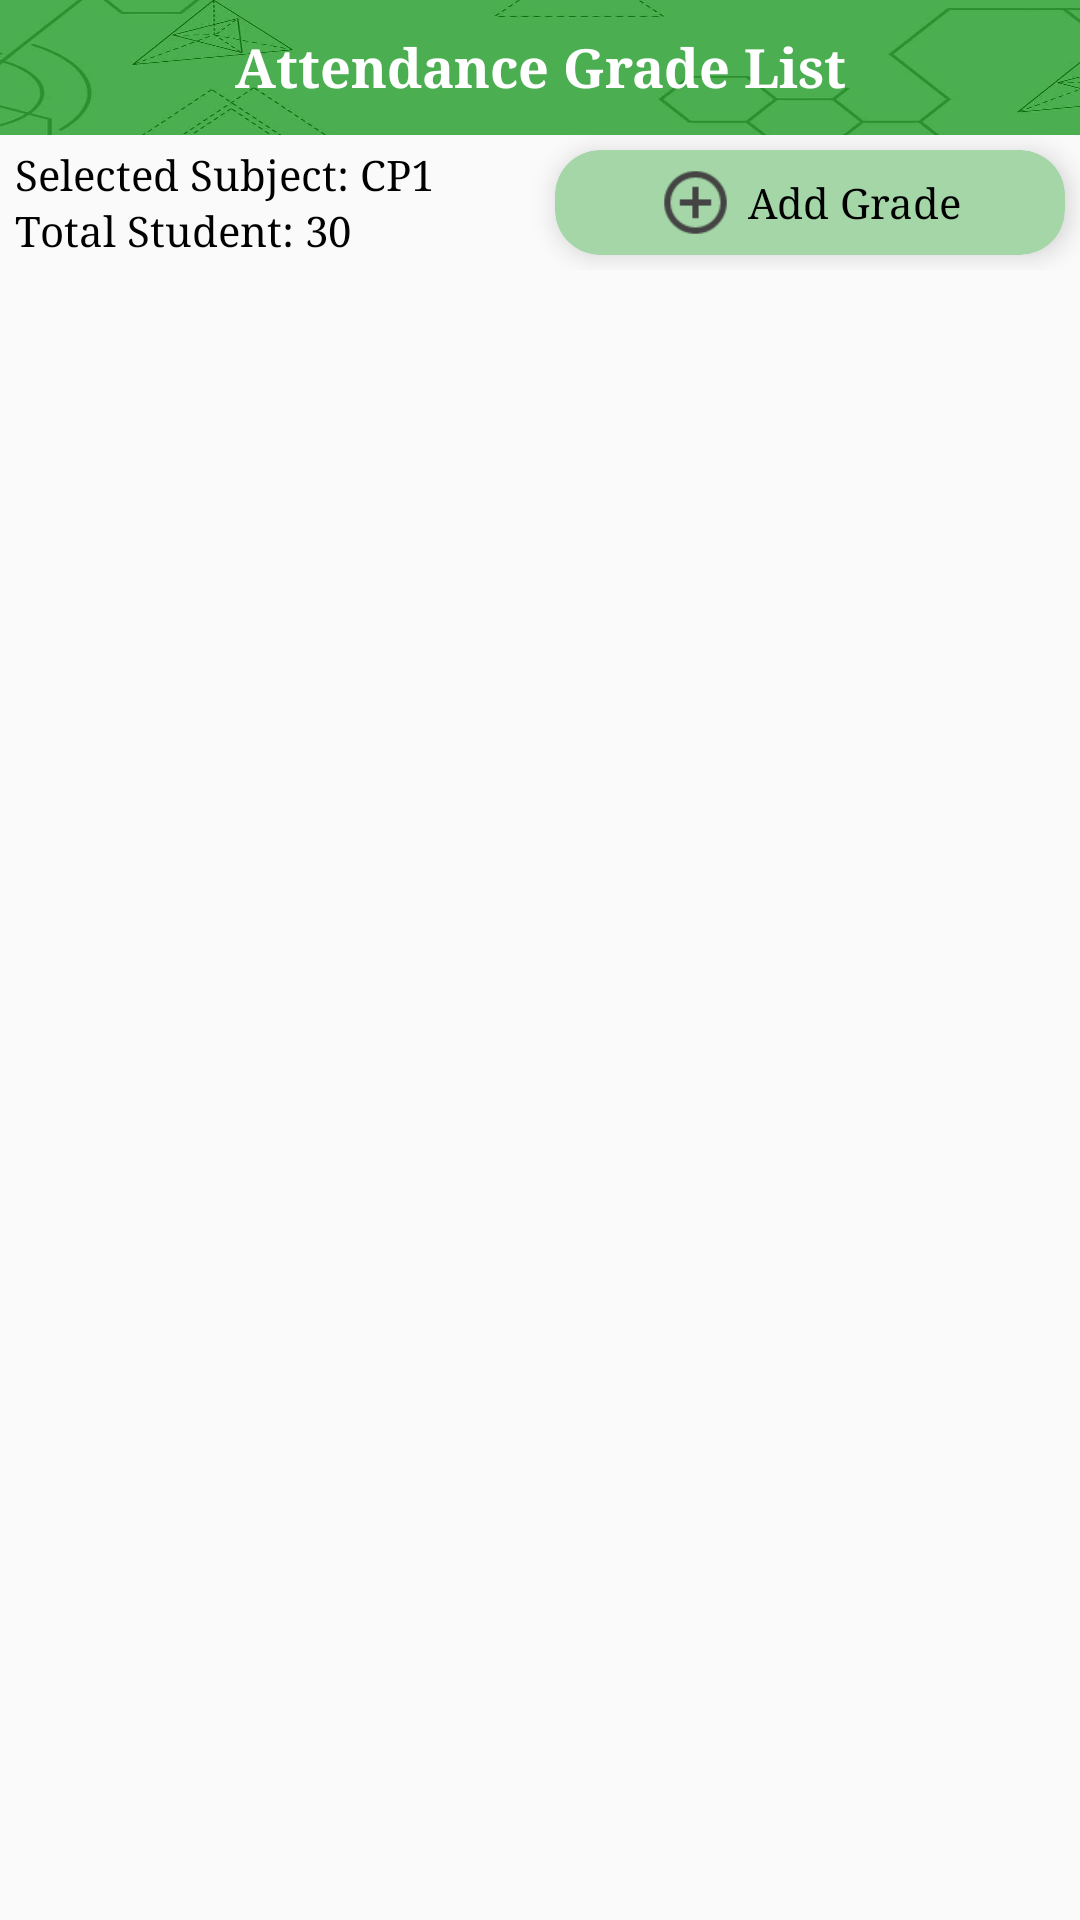

Where to tap for icons on this 1080w x 1920h app screen, as point (x, y):
plus circle: point (695, 202)
